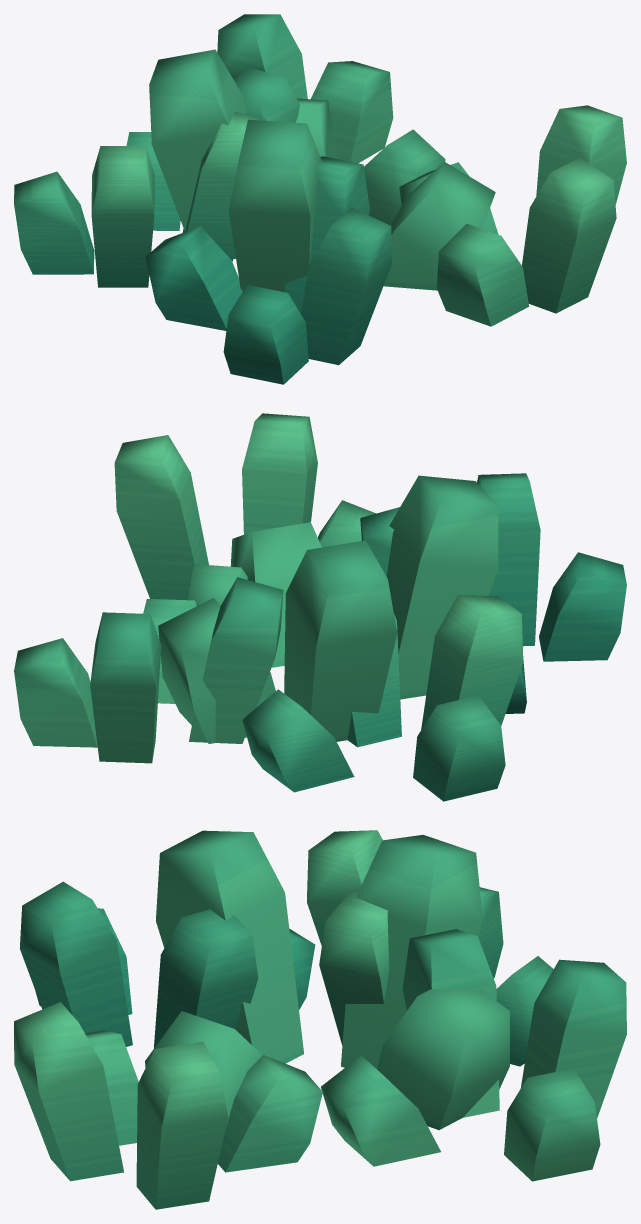
The model's file is grass-patch.glb.
3 renders of one model, top to bottom at view 1: azimuth 30°, elevation 25°; view 2: azimuth 150°, elevation 25°; view 3: azimuth 270°, elevation 25°, orthographic. The views are drawn at different scales.
Parts seen in each view (by area): view 1: grass-patch; view 2: grass-patch; view 3: grass-patch.
Part boxes in pixels (<box>): grass-patch: <box>14,14,626,384</box>; grass-patch: <box>14,413,626,801</box>; grass-patch: <box>14,830,626,1209</box>.
Bounding box in the file's own units: 0.218 × 0.0782 × 0.2111.
Materials: 1 (1 with a texture image).
